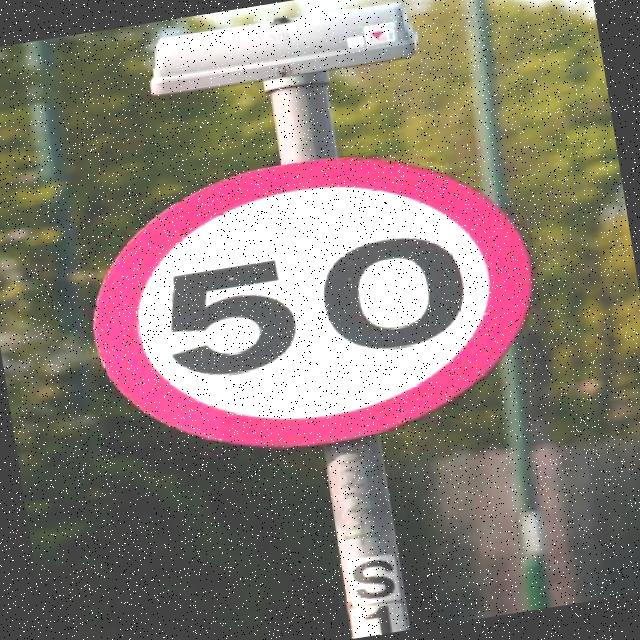Ograniczenie predkosci do 50: (102, 137, 550, 470)
